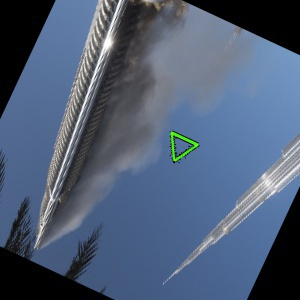triangle: (166, 128, 201, 164)
